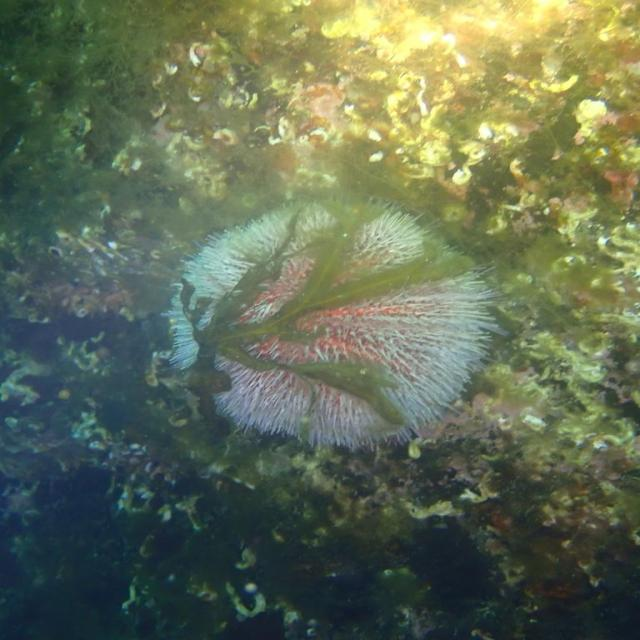Deniz Kestanesi: (161, 197, 503, 451)
